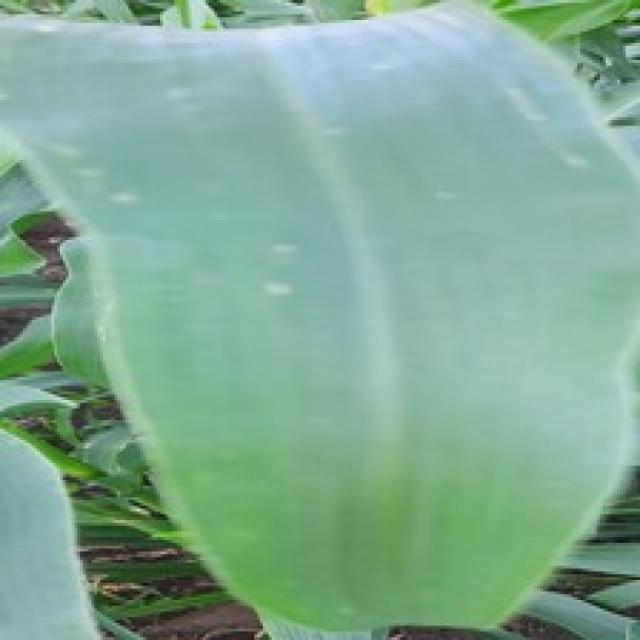Corn: (0, 0, 637, 637), (0, 403, 109, 637)
